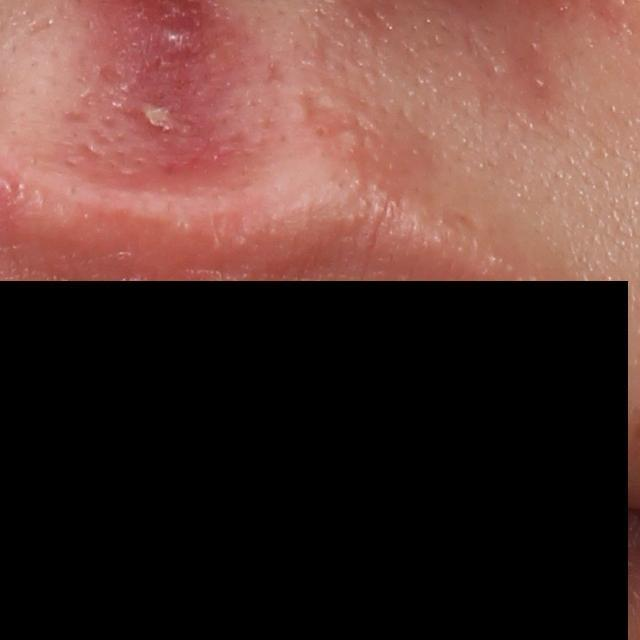atrophic_scar: (464, 25, 499, 85), (98, 59, 128, 88)
pustule: (133, 98, 180, 131)
